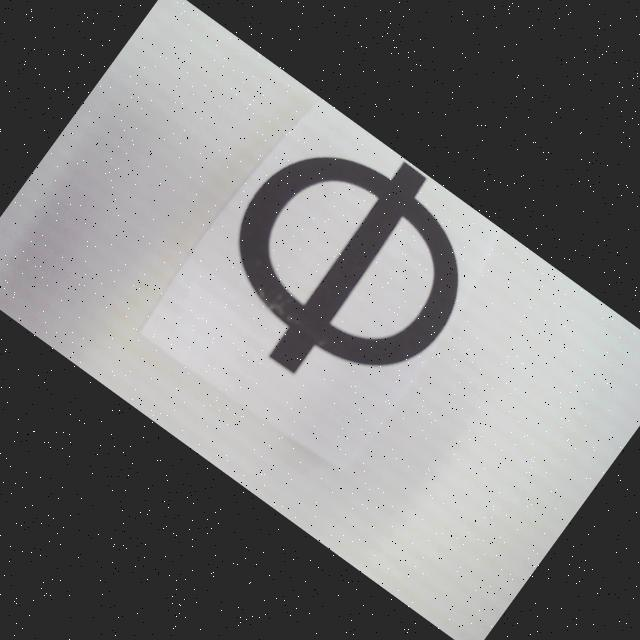PHI: (180, 100, 510, 430)
